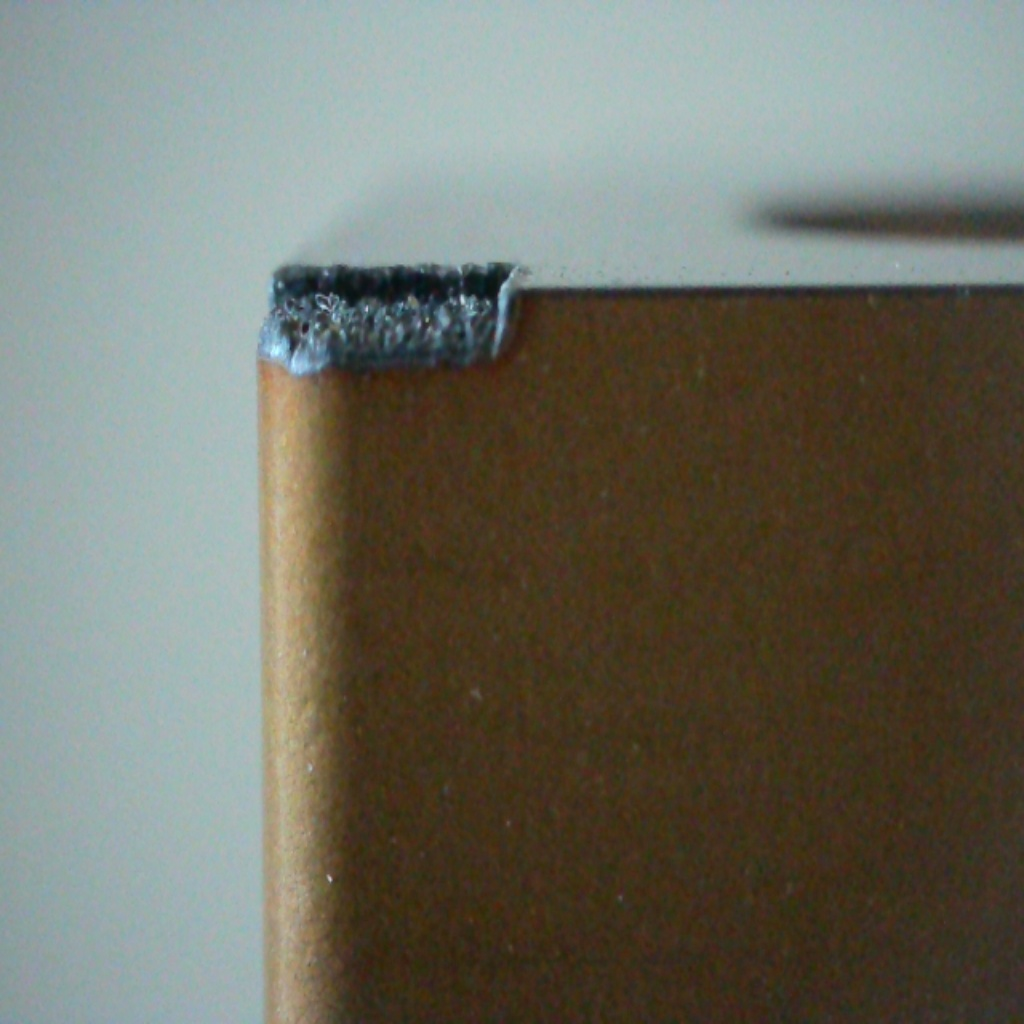flank_wear: (258, 319, 348, 384)
